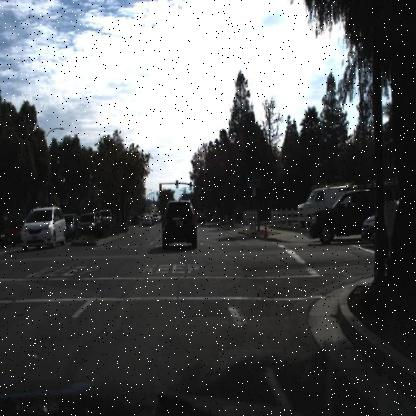car: (308, 188, 362, 246), (296, 182, 362, 228), (160, 194, 200, 253), (18, 205, 66, 254), (292, 182, 340, 226), (356, 200, 396, 244), (72, 212, 102, 240), (74, 210, 98, 238), (29, 215, 58, 237), (62, 209, 79, 240), (140, 212, 152, 228)
